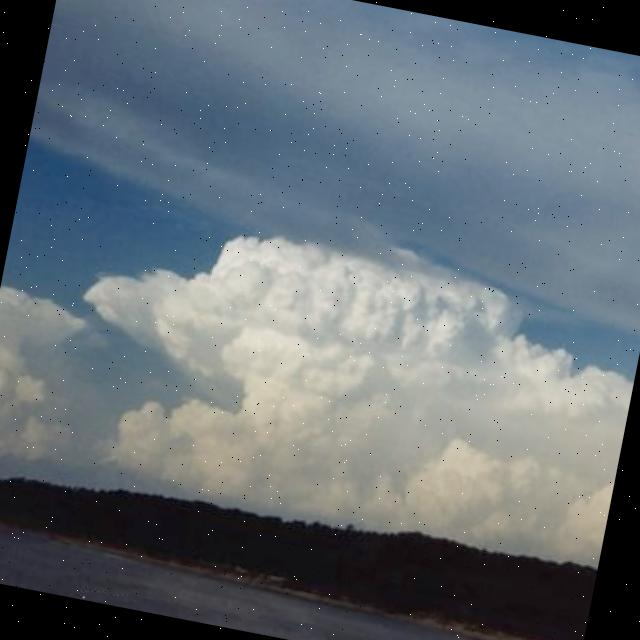As: (43, 177, 640, 535)
